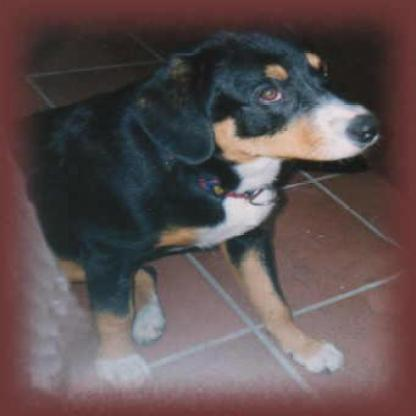EntleBucher: (10, 25, 379, 389)
